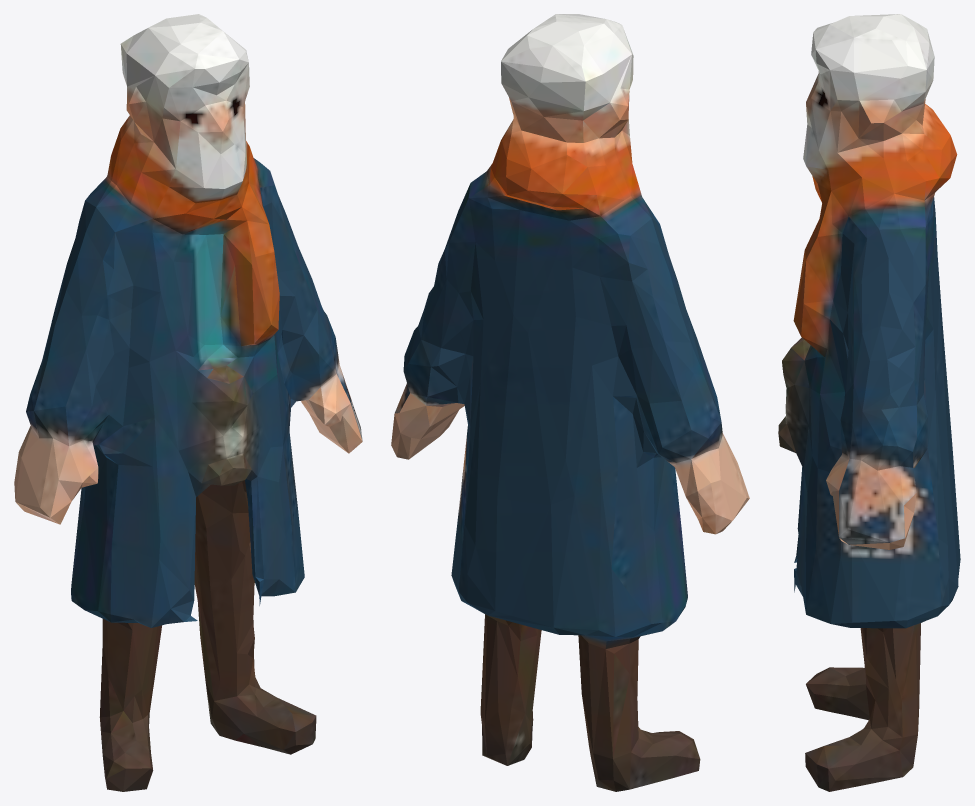
Rendered from habitant-loin.glb.
The picture shows the model from 3 angles, left to right: view 1: azimuth 30°, elevation 25°; view 2: azimuth 150°, elevation 25°; view 3: azimuth 270°, elevation 25°; orthographic projection. The views are drawn at different scales.
Parts seen in each view (by area): view 1: habitant; view 2: habitant; view 3: habitant.
Part boxes in pixels (x1=…): habitant: x1=14, y1=14, x2=362, y2=791; habitant: x1=391, y1=14, x2=749, y2=791; habitant: x1=778, y1=14, x2=960, y2=791.
Bounding box in the file's own units: 0.4846 × 1.01 × 0.2311.
Materials: 1 (1 with a texture image).
